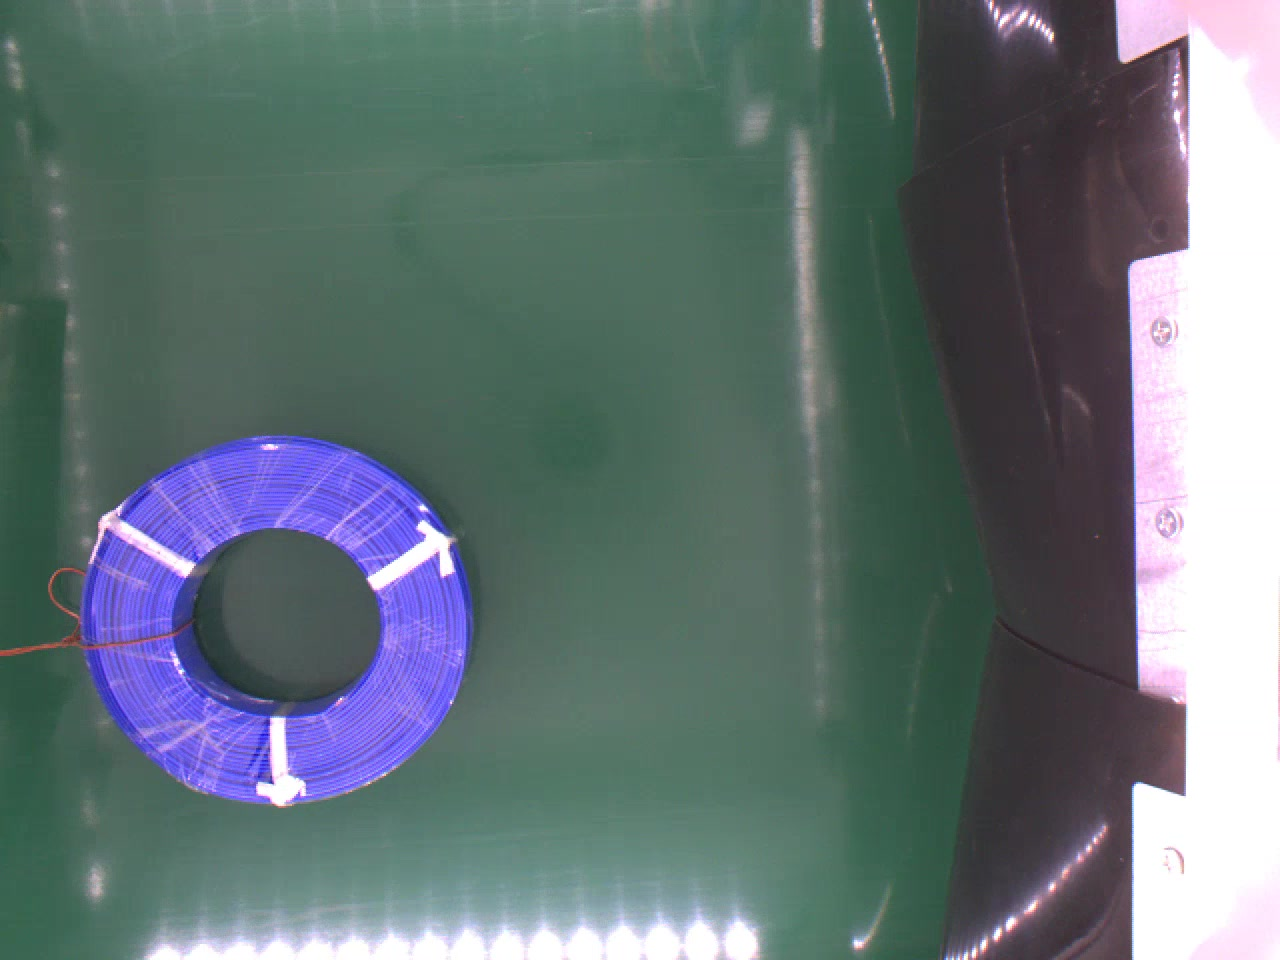blue: (86, 432, 474, 811)
